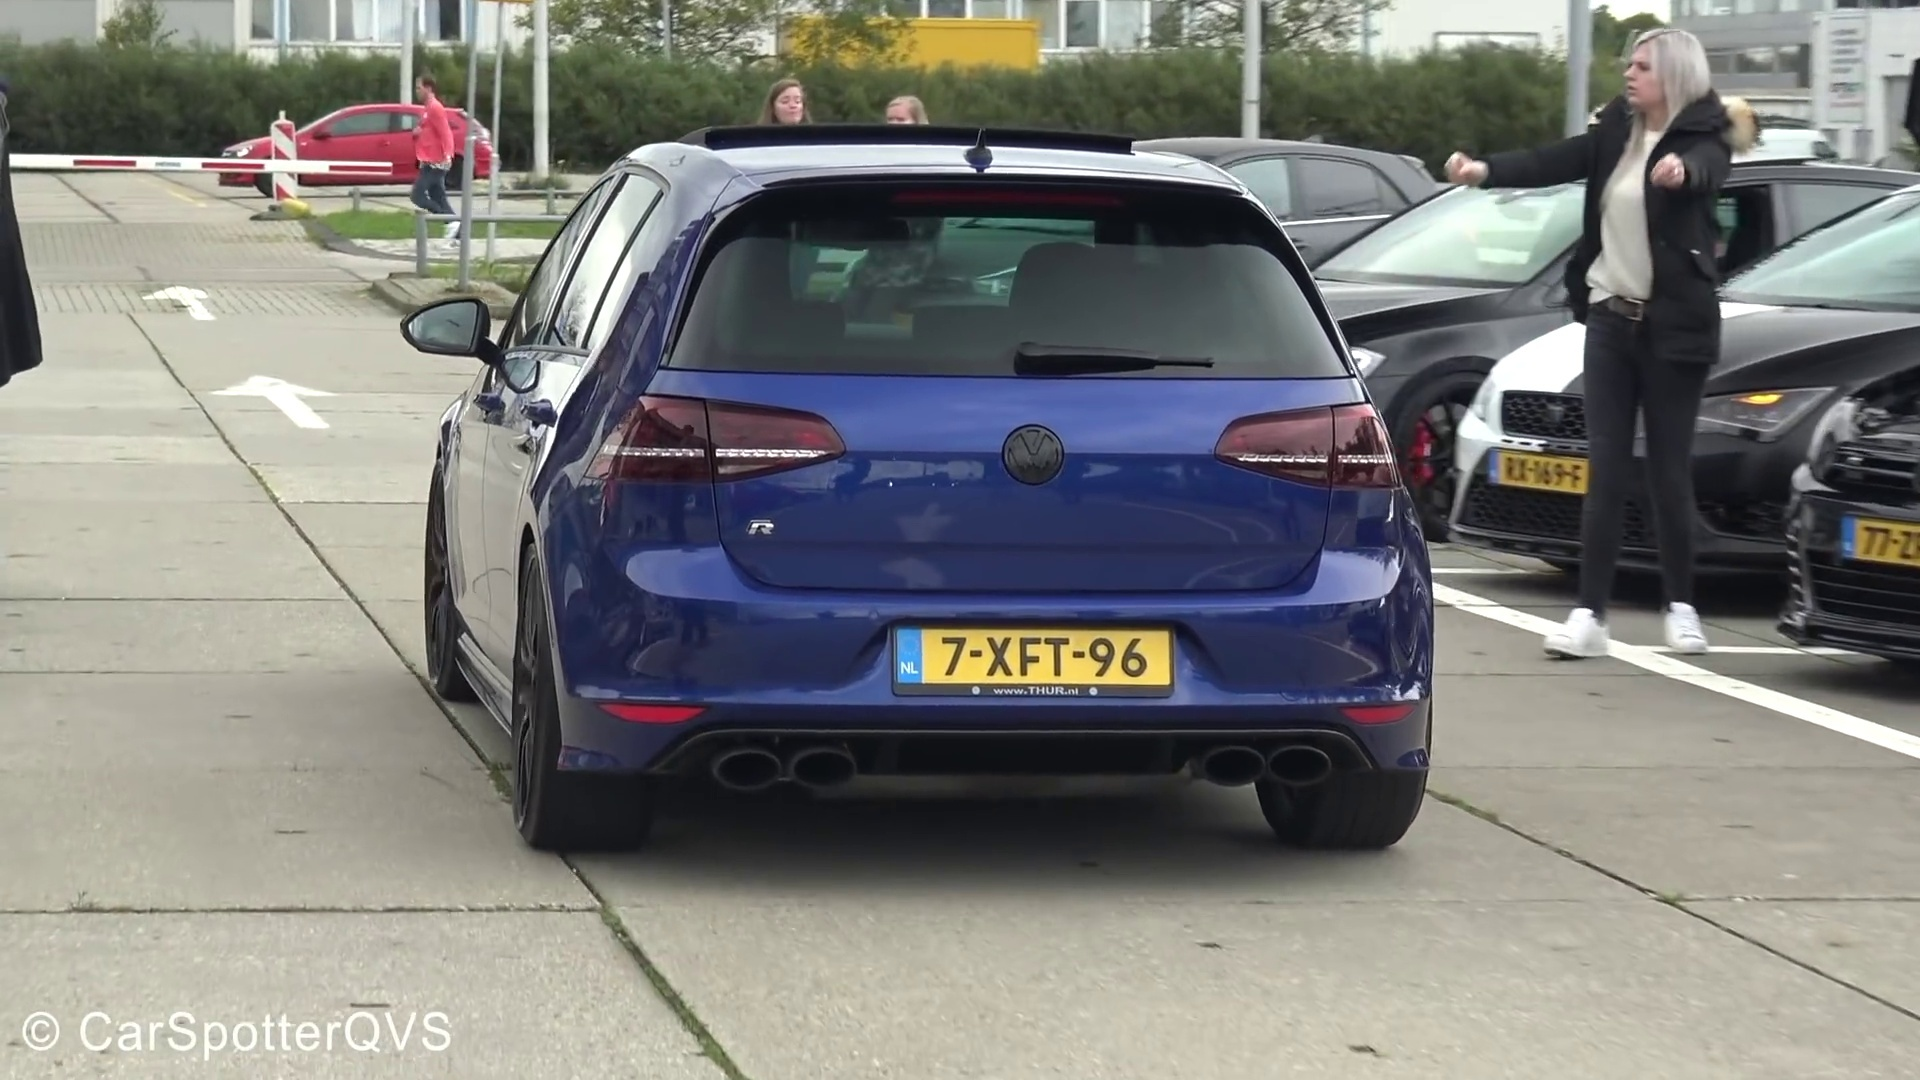number_plate: (887, 625, 1173, 696)
